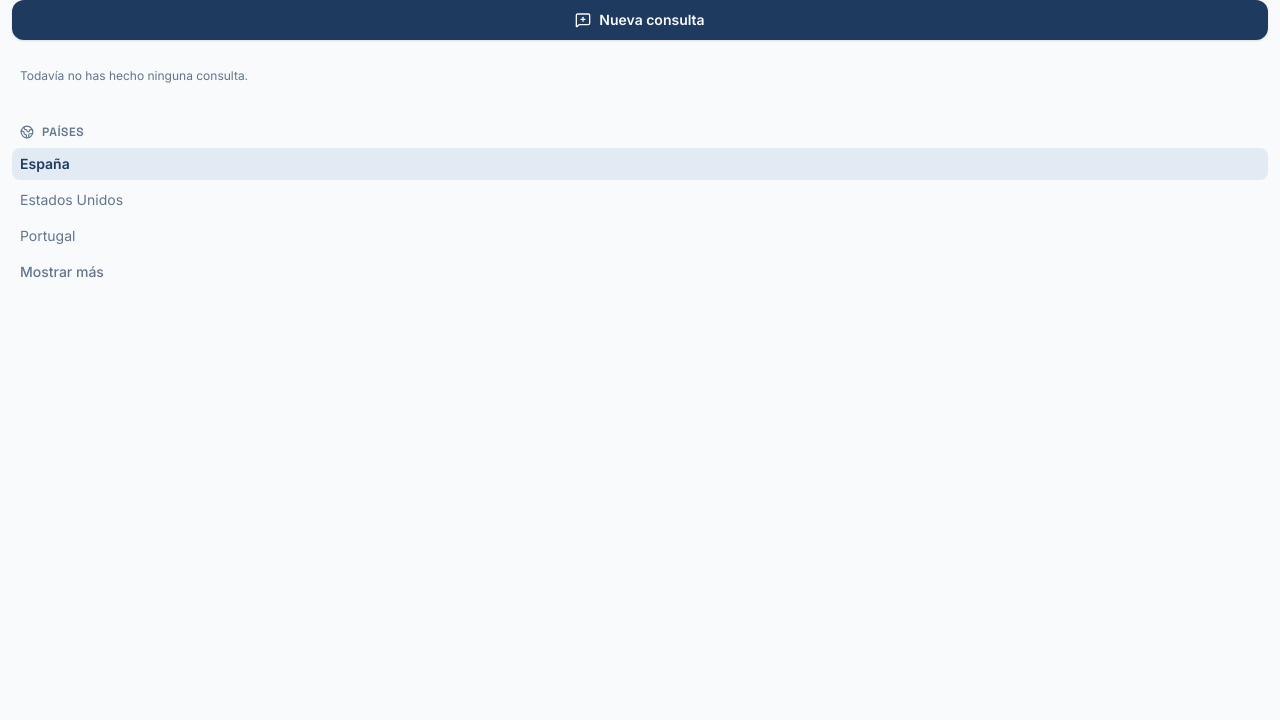
CountryNavigation › muestra tres países y despliega el resto con Mostrar más
Click the button "Mostrar más": x=62, y=272 [12,256,1268,288]
(page scrolled)
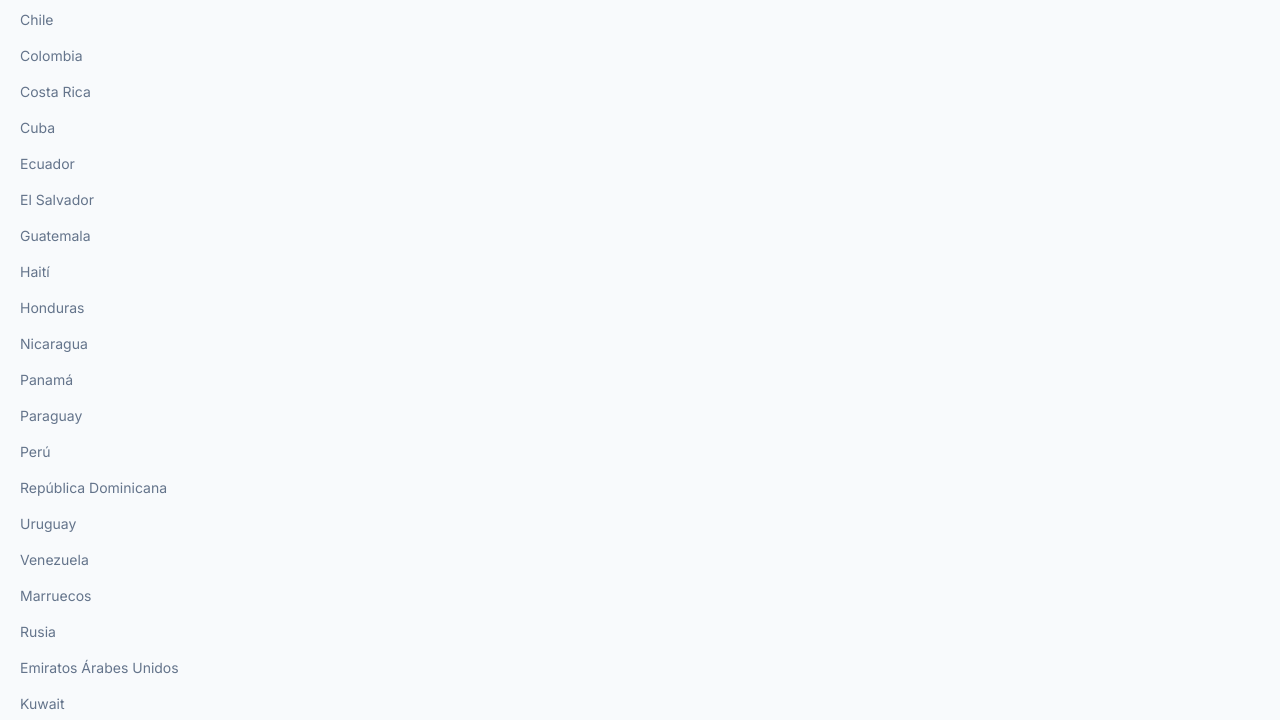
Expected: the button "Mostrar más" is gone
